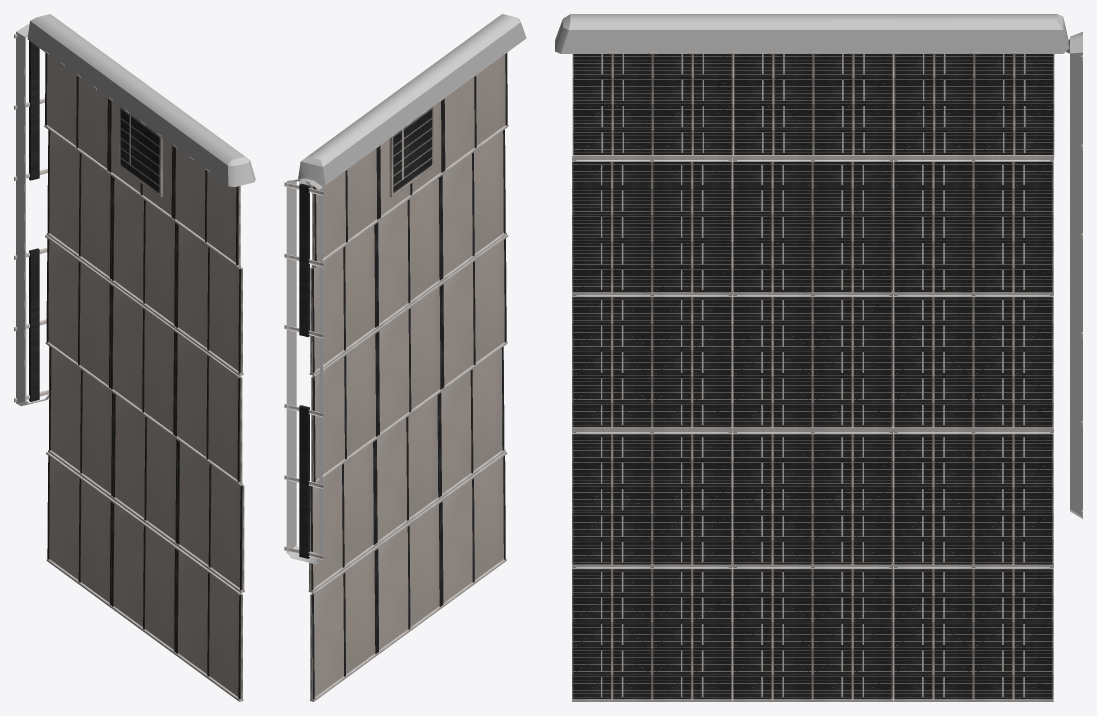
Rendered from Solar_Large.FBX.
The picture shows the model from 3 angles, left to right: view 1: azimuth 30°, elevation 25°; view 2: azimuth 150°, elevation 25°; view 3: azimuth 270°, elevation 25°; orthographic projection. The views are drawn at different scales.
Parts seen in each view (by area): view 1: Panel003, Panel005, Panel004, Panel002, Panel001, BaseLid, Base, Details, suncatcher; view 2: Panel005, Panel003, Panel002, Panel004, Panel001, BaseLid, Base, Details, suncatcher; view 3: Panel002, Panel004, Panel003, Panel005, Panel001, BaseLid, Base.
Boxes of the visible parts, box(x1,y1,x2,y2) form: Panel003: box(45, 235, 242, 484); Panel005: box(46, 452, 243, 701); Panel004: box(48, 347, 244, 592); Panel002: box(46, 130, 243, 375); Panel001: box(44, 53, 240, 267); BaseLid: box(27, 14, 255, 187); Base: box(16, 24, 49, 406); Details: box(14, 34, 49, 402); suncatcher: box(119, 107, 162, 197); Panel005: box(310, 451, 507, 701); Panel003: box(311, 234, 508, 482); Panel002: box(309, 129, 506, 375); Panel004: box(308, 347, 505, 592); Panel001: box(311, 53, 508, 267); BaseLid: box(298, 14, 526, 185); Base: box(286, 178, 322, 564); Details: box(284, 182, 323, 559); suncatcher: box(389, 107, 433, 197); Panel002: box(572, 156, 1053, 294); Panel004: box(572, 429, 1053, 566); Panel003: box(572, 291, 1053, 429); Panel005: box(572, 563, 1053, 701); Panel001: box(572, 54, 1054, 157); BaseLid: box(555, 14, 1069, 53); Base: box(1066, 32, 1082, 518).
Bounding box in the file's own units: 45.87 × 615 × 432.
